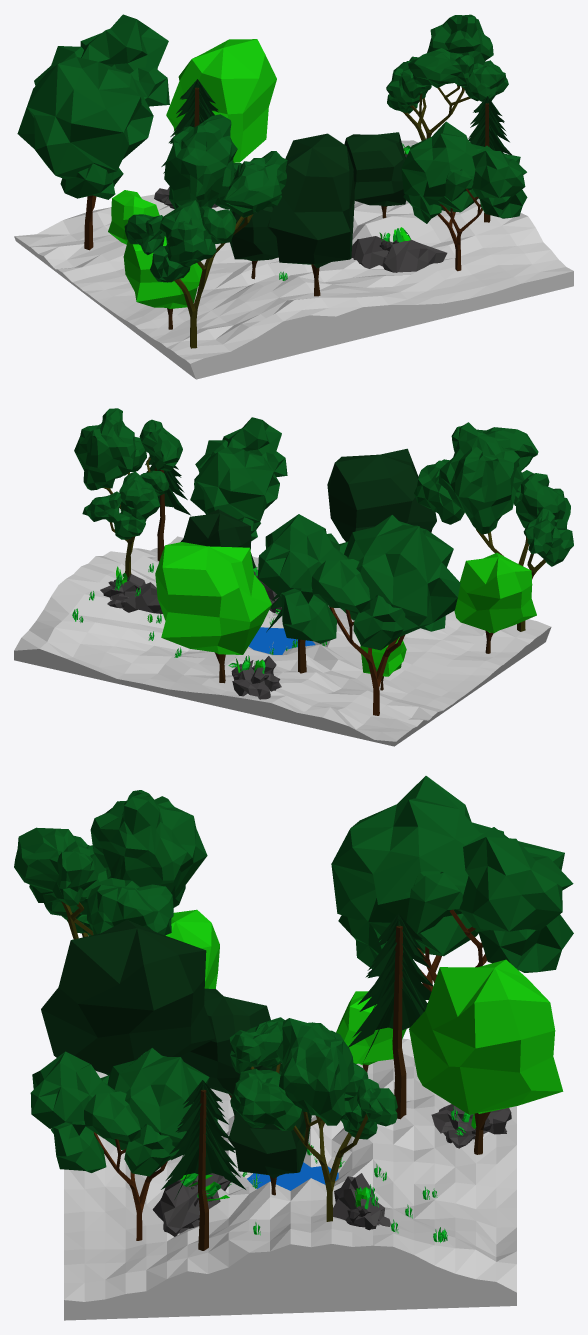
File: Лес.obj
3 views of the same model, one above another, from view 1: azimuth 30°, elevation 25°; view 2: azimuth 150°, elevation 25°; view 3: azimuth 270°, elevation 25° (orthographic). The views are drawn at different scales.
Visible parts, largest first — view 1: Плоскость_Плоскость.001, Crown.001, Crown.005_Crown.002, Tree_PROXY.001_Cylinder.002, Crown, Tree_PROXY.005_Cylinder.001, Crown.004_Crown.002, Tree_PROXY_Cylinder.002, Tree_PROXY.003_Cylinder.001, Tree_PROXY.002_Cylinder.002, LP_Stone_B.004_Mesh.008, Tree_PROXY.004_Cylinder.001 (+7 smaller); view 2: Плоскость_Плоскость.001, Crown.001, Crown.005_Crown.002, Tree_PROXY.005_Cylinder.001, Crown.004_Crown.002, Crown, Tree_PROXY.001_Cylinder.002, Tree_PROXY.003_Cylinder.001, Tree_PROXY_Cylinder.002, Trunk.001, Плоскость.001_Плоскость.003, LP_Stone_B_Mesh.003 (+6 smaller); view 3: Плоскость_Плоскость.001, Crown.001, Tree_PROXY.001_Cylinder.002, Tree_PROXY.005_Cylinder.001, Crown.005_Crown.002, Crown, Crown.004_Crown.002, Crown.003_Vert, Tree_PROXY.002_Cylinder.002, Tree_PROXY_Cylinder.002, Crown.002_Vert, Tree_PROXY.004_Cylinder.001 (+10 smaller).
Boxes of the visible parts, <box> form: Плоскость_Плоскость.001: <box>14,140,573,379</box>; Crown.001: <box>17,14,169,199</box>; Crown.005_Crown.002: <box>124,114,287,282</box>; Tree_PROXY.001_Cylinder.002: <box>267,133,354,296</box>; Crown: <box>401,121,527,223</box>; Tree_PROXY.005_Cylinder.001: <box>166,39,276,162</box>; Crown.004_Crown.002: <box>386,14,508,113</box>; Tree_PROXY_Cylinder.002: <box>344,132,406,218</box>; Tree_PROXY.003_Cylinder.001: <box>123,236,202,329</box>; Tree_PROXY.002_Cylinder.002: <box>230,206,278,279</box>; LP_Stone_B.004_Mesh.008: <box>382,239,447,272</box>; Tree_PROXY.004_Cylinder.001: <box>108,190,159,244</box>; Плоскость_Плоскость.001: <box>14,536,551,746</box>; Crown.001: <box>257,514,460,650</box>; Crown.005_Crown.002: <box>414,422,573,566</box>; Tree_PROXY.005_Cylinder.001: <box>155,542,271,683</box>; Crown.004_Crown.002: <box>74,408,182,539</box>; Crown: <box>190,417,287,540</box>; Tree_PROXY.001_Cylinder.002: <box>327,448,436,541</box>; Tree_PROXY.003_Cylinder.001: <box>454,552,536,653</box>; Tree_PROXY_Cylinder.002: <box>180,509,255,568</box>; Trunk.001: <box>329,606,404,715</box>; Плоскость.001_Плоскость.003: <box>248,627,315,654</box>; LP_Stone_B_Mesh.003: <box>123,582,162,613</box>; Плоскость_Плоскость.001: <box>64,1038,516,1320</box>; Crown.001: <box>331,776,573,972</box>; Tree_PROXY.001_Cylinder.002: <box>41,920,214,1075</box>; Tree_PROXY.005_Cylinder.001: <box>409,959,563,1154</box>; Crown.005_Crown.002: <box>14,790,207,935</box>; Crown: <box>30,1048,217,1176</box>; Crown.004_Crown.002: <box>230,1017,397,1139</box>; Crown.003_Vert: <box>348,913,433,1061</box>; Tree_PROXY.002_Cylinder.002: <box>179,988,270,1118</box>; Tree_PROXY_Cylinder.002: <box>228,1063,311,1195</box>; Crown.002_Vert: <box>161,1080,245,1199</box>; Tree_PROXY.004_Cylinder.001: <box>336,991,406,1072</box>.
Size of what is drawn, in the model's own units: 19.38 by 10.09 by 16.42.
